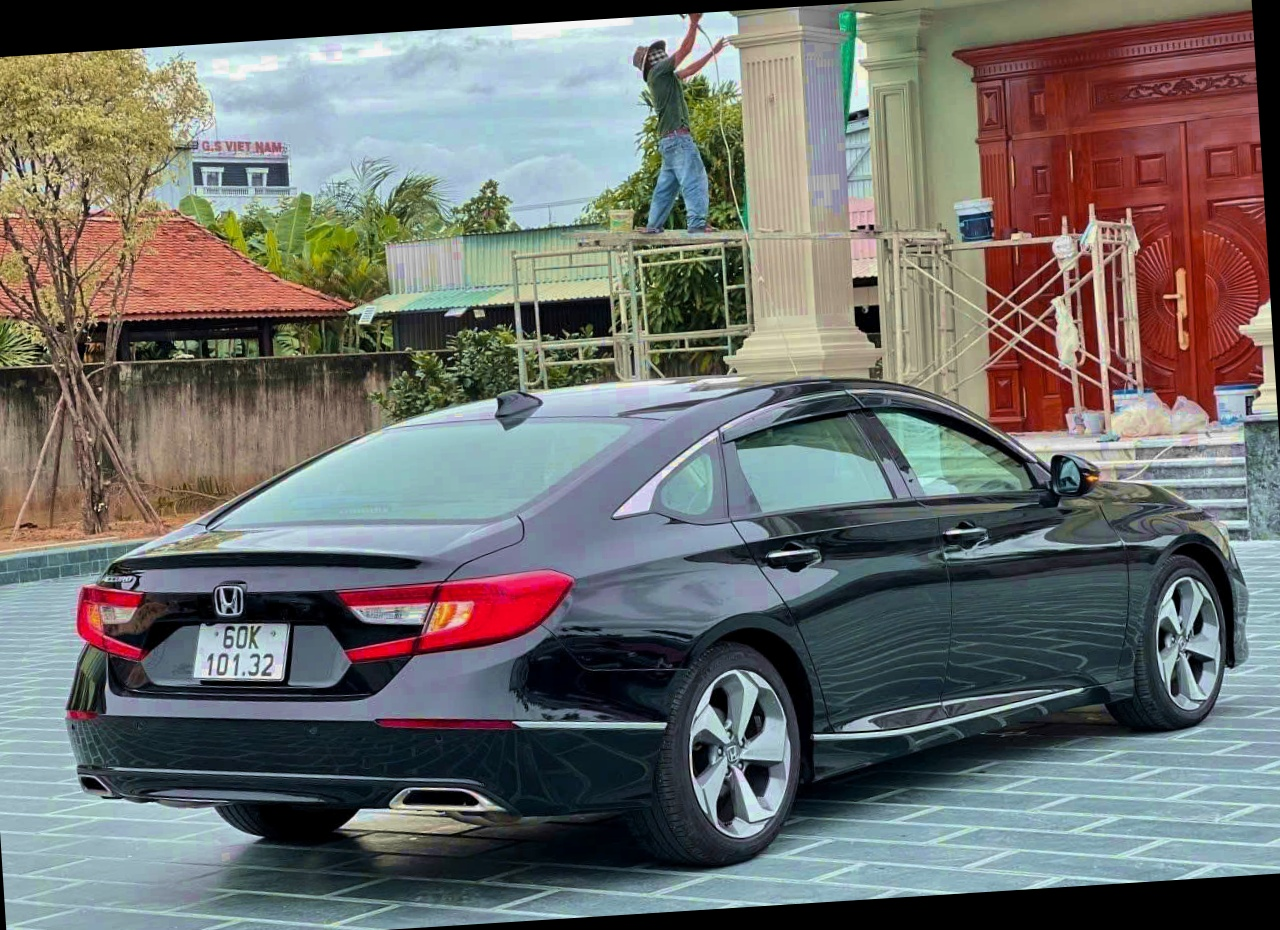Bien-so: (181, 615, 289, 687)
